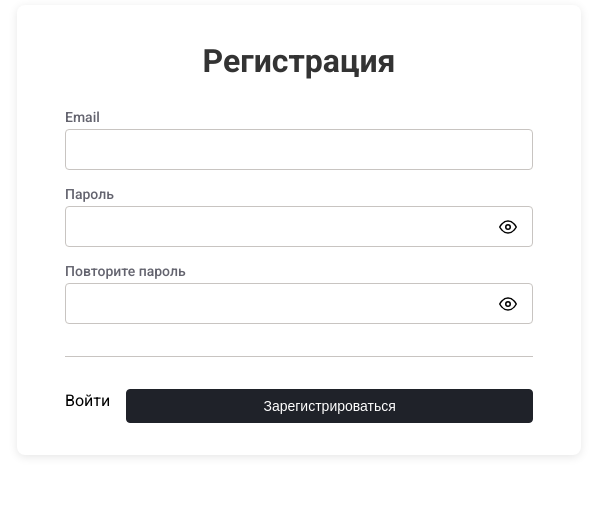
Test case: Registration › validates password confirmation
The image size is (599, 519).
Type "Password1" into the password field labelled "Пароль" at (299, 226), box [65, 206, 533, 247]
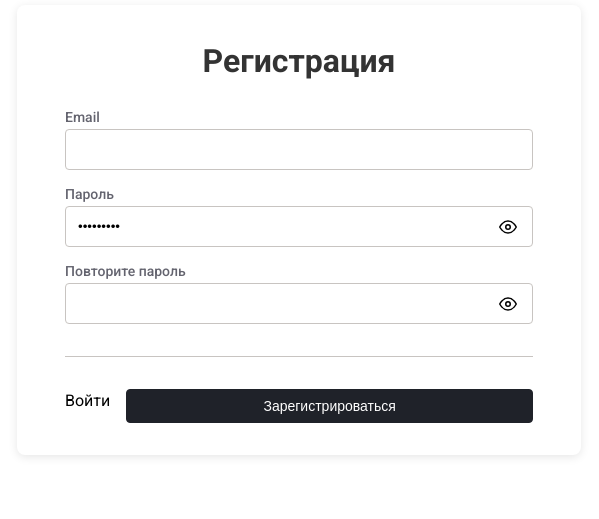
Type "Password2" into the password field labelled "Повторите пароль" at (299, 304), box [65, 283, 533, 324]
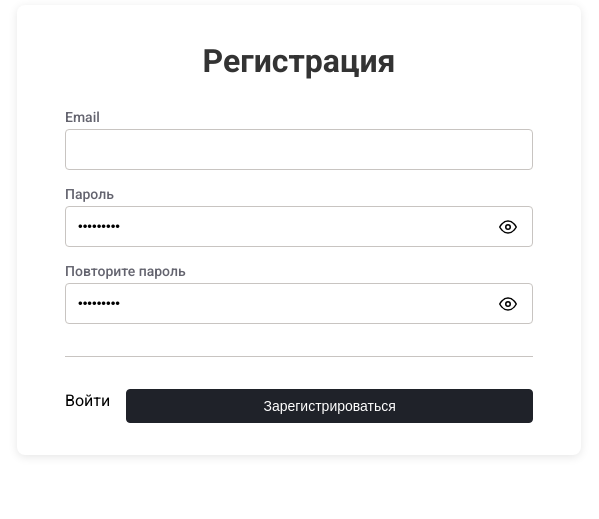
Submit the form with test id "register-form", box [65, 109, 533, 423]
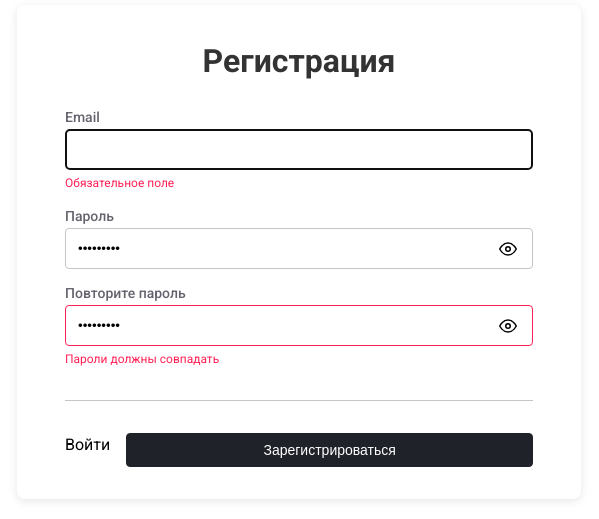
Check: the text "Пароли должны совпадать" is shown, box [65, 352, 219, 366]
